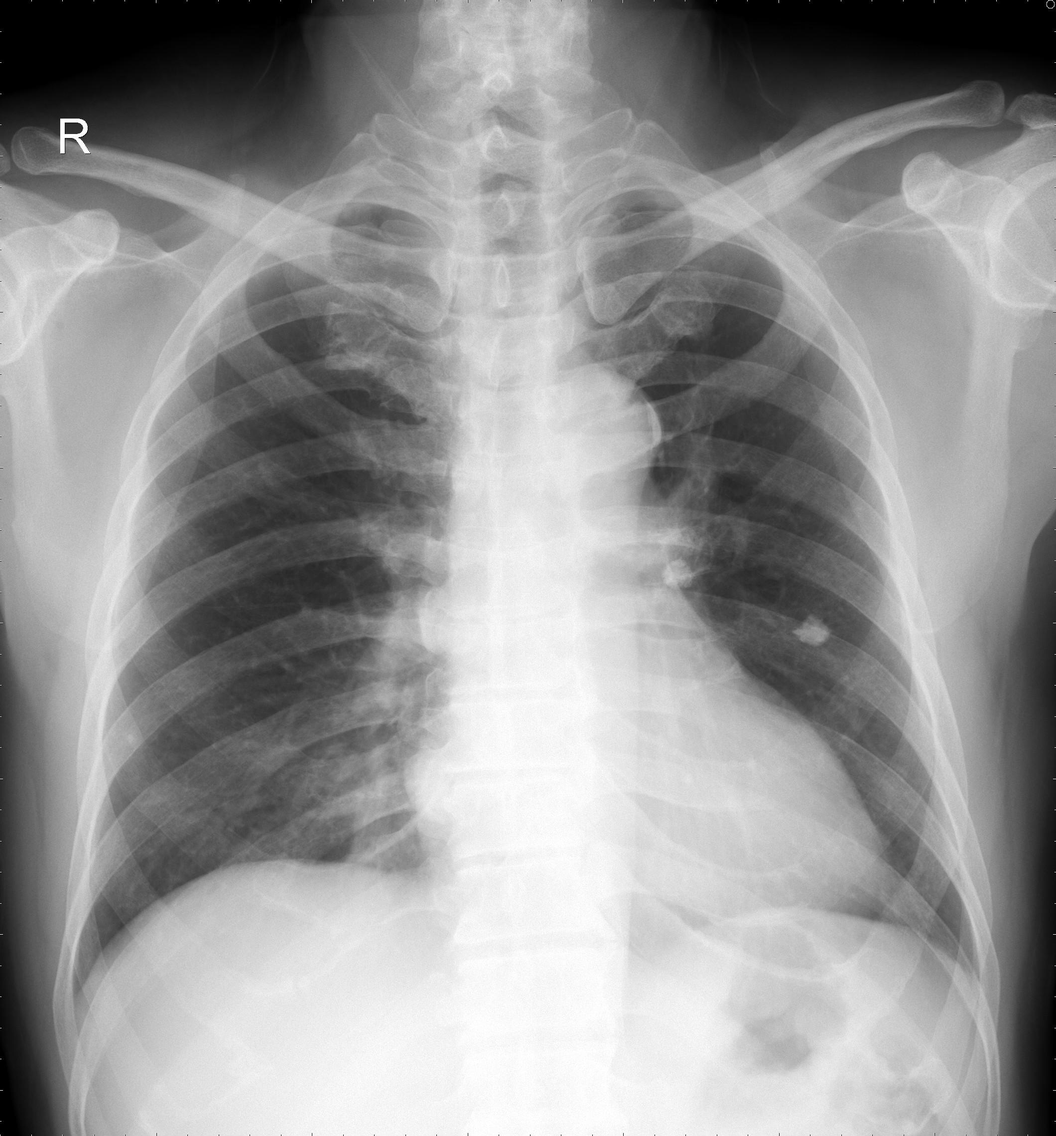Aortic enlargement: (534, 366, 662, 480)
